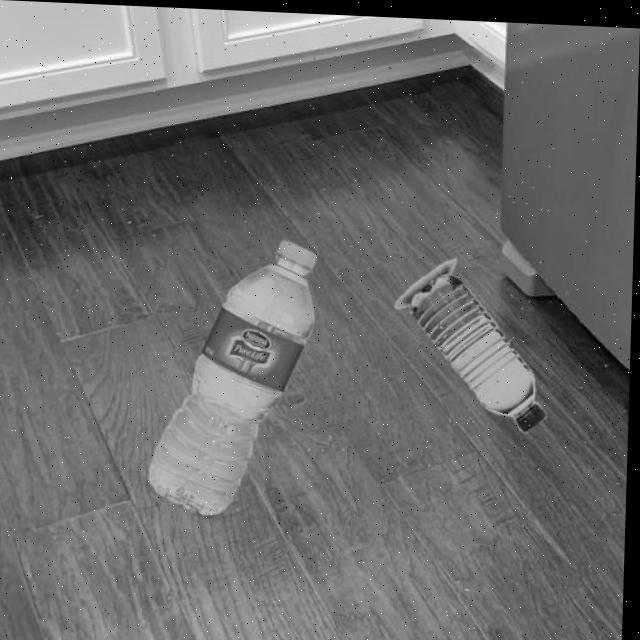bottle: (148, 231, 320, 517), (391, 249, 554, 430)
